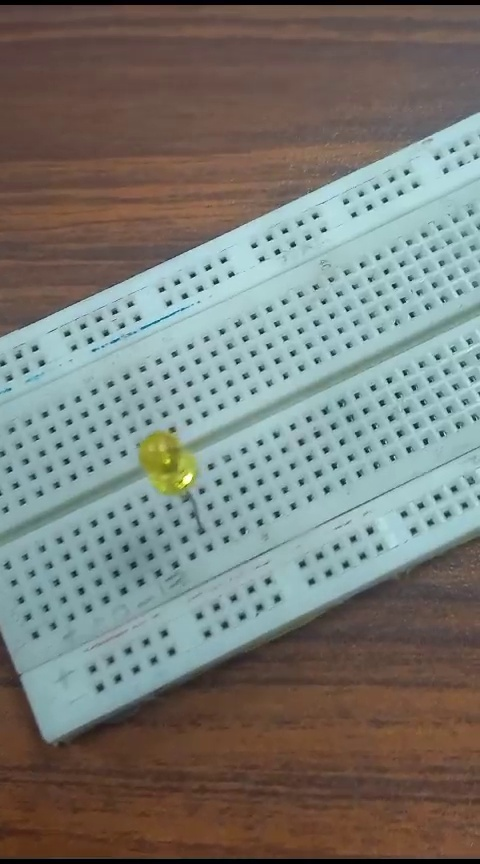LED: (112, 425, 216, 572)
